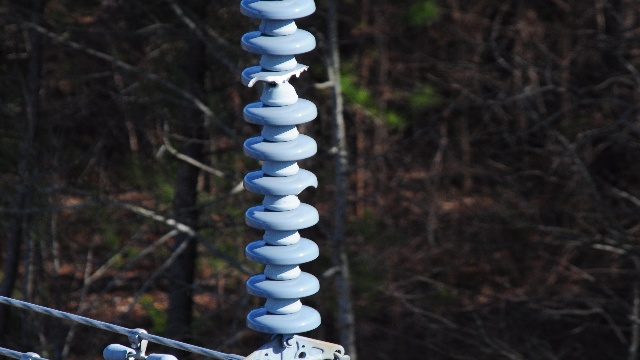broken_local: (247, 66, 312, 88), (296, 183, 316, 197)
insulator_unspecified: (237, 0, 324, 335)
